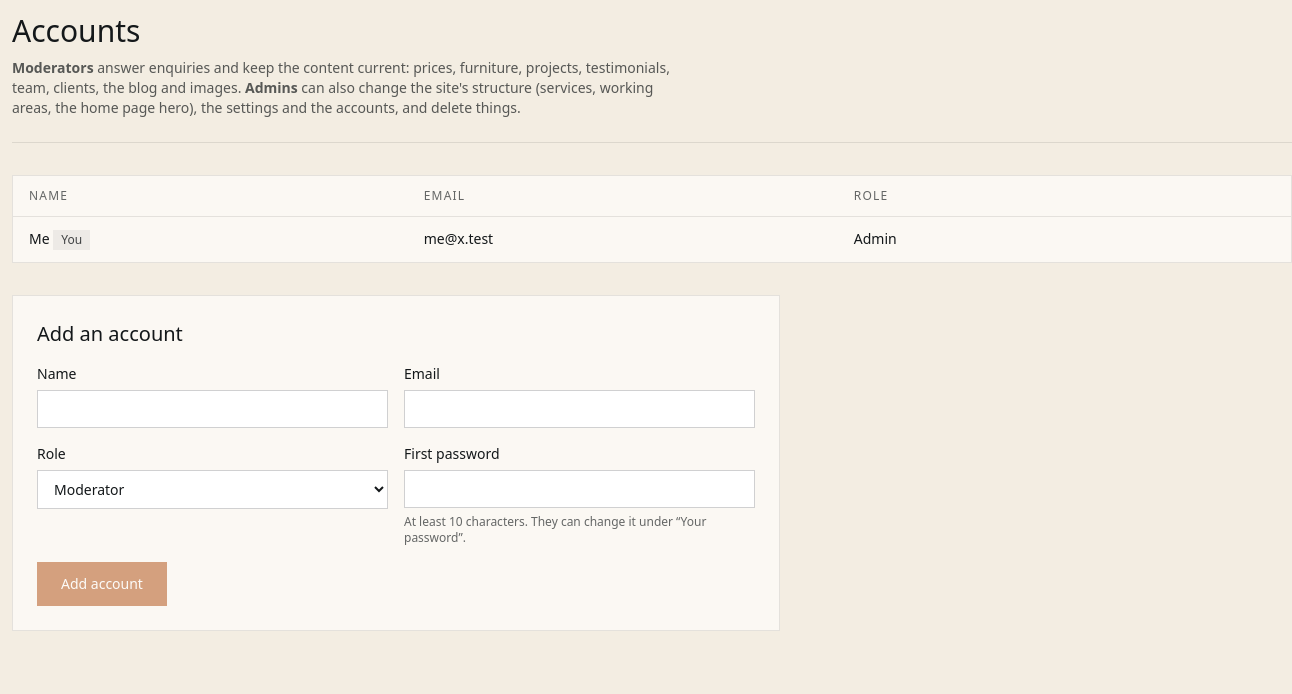
Scenario: UsersAdmin › adds an account with a role and a first password
expect the text "me@x.test" is shown: met, box [408, 216, 838, 262]
Type "Karim" into the field labelled "Name" at x=212, y=408, box [37, 390, 388, 428]
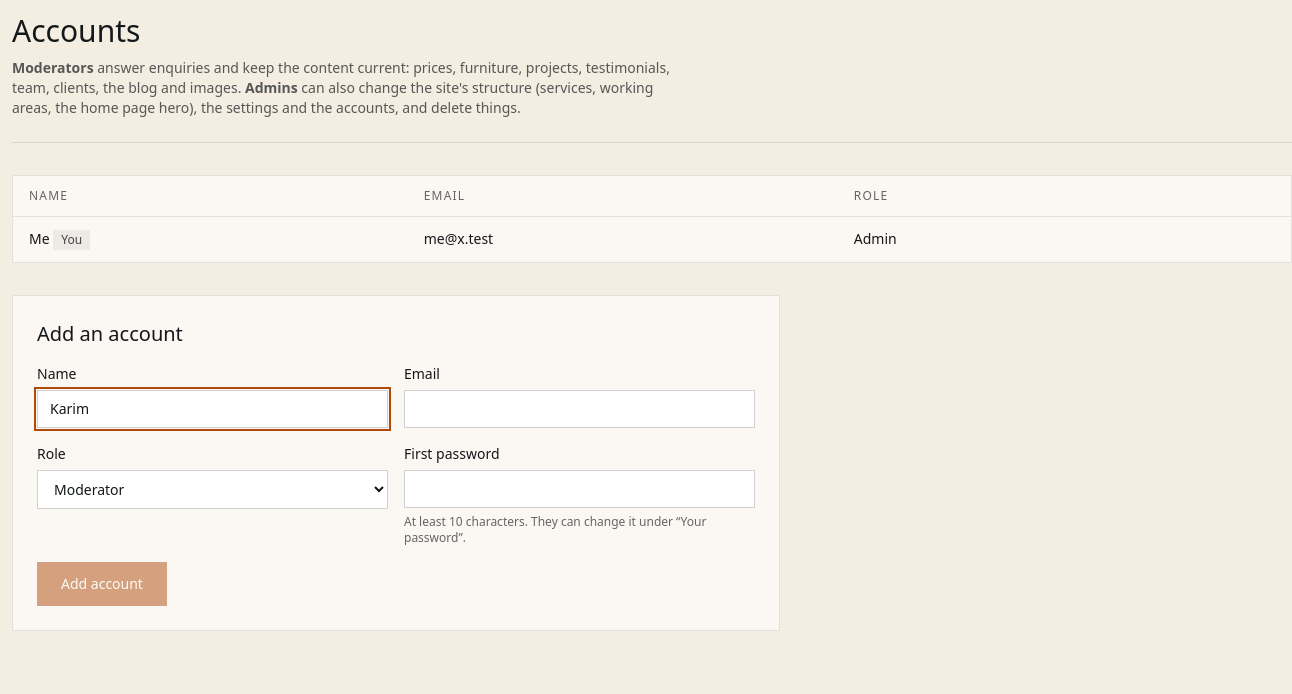
Type "karim@x.test" into the field labelled "Email" at x=580, y=408, box [404, 390, 755, 428]
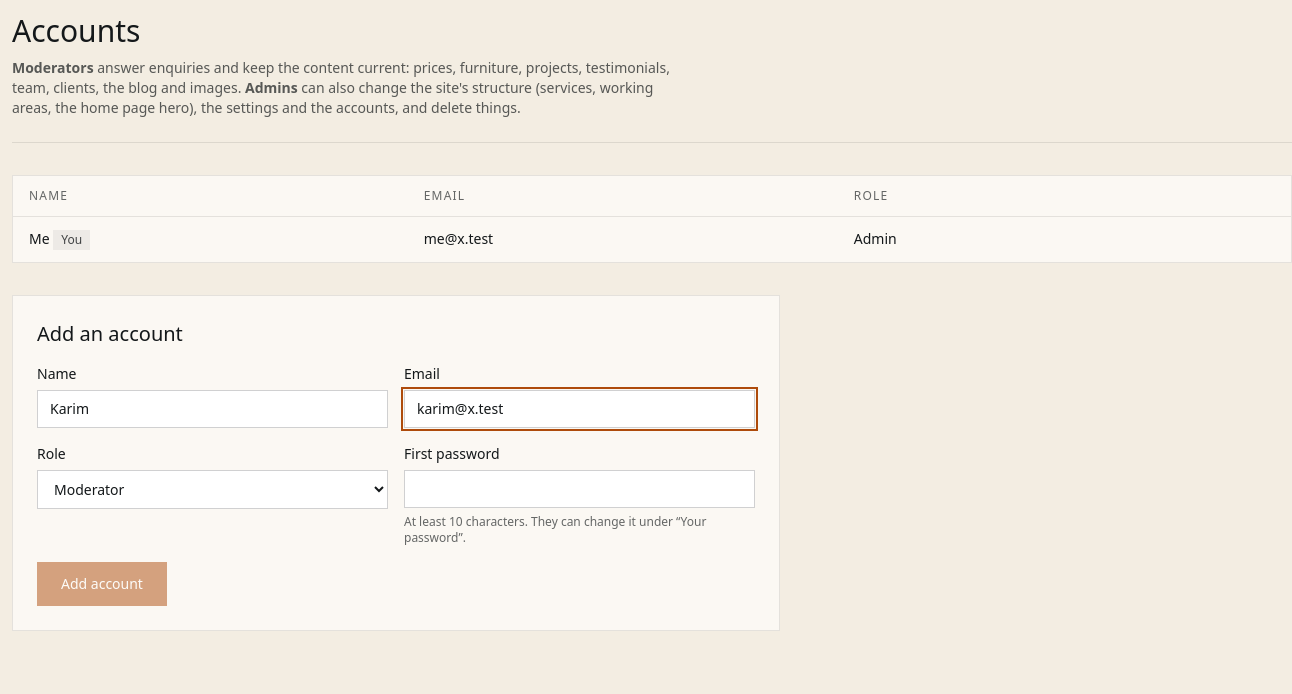
Type "first-password-1" into the field labelled "First password" at x=580, y=488, box [404, 470, 755, 508]
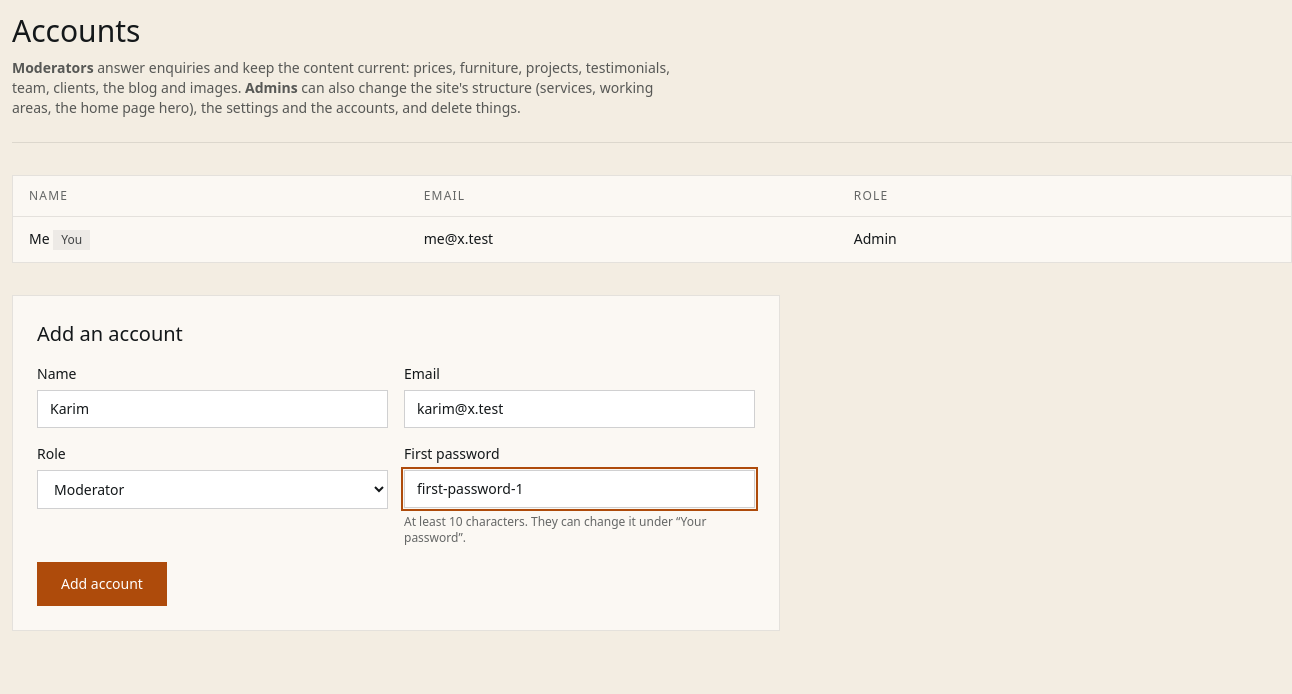
Click the button "Add account" at x=102, y=584, box [37, 562, 167, 606]
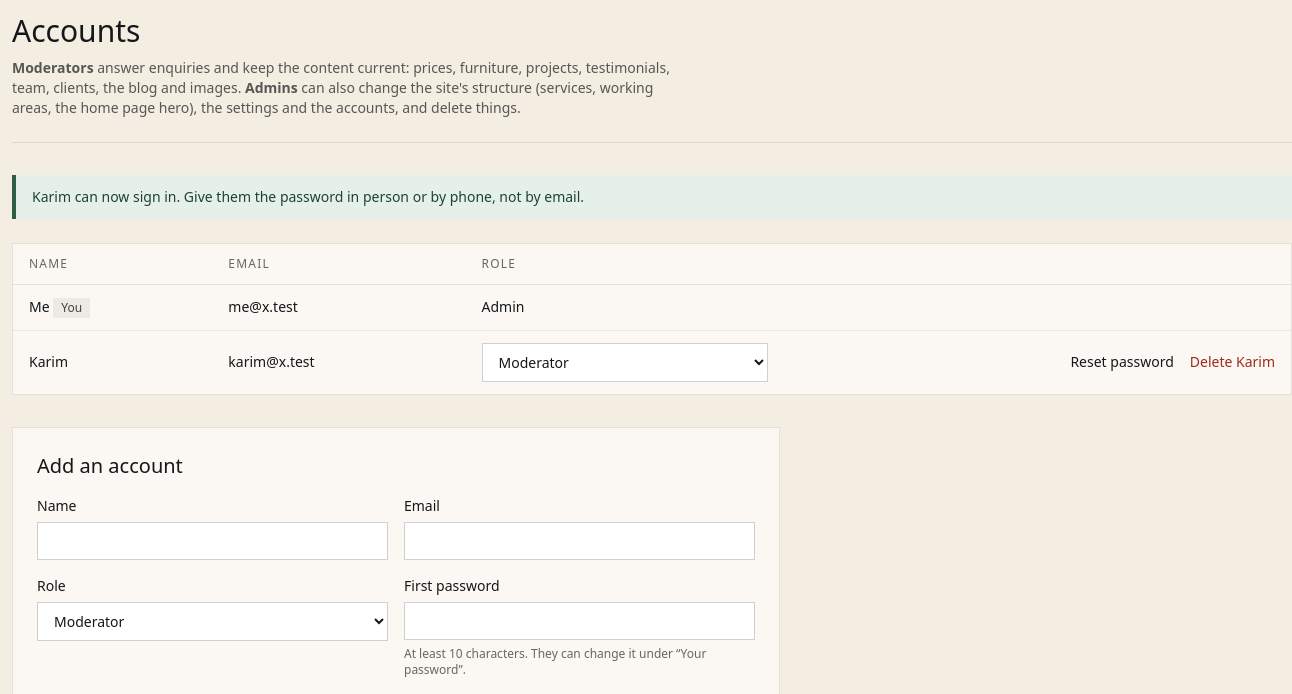
expect the text "karim@x.test" is shown: met, box [212, 330, 466, 394]
